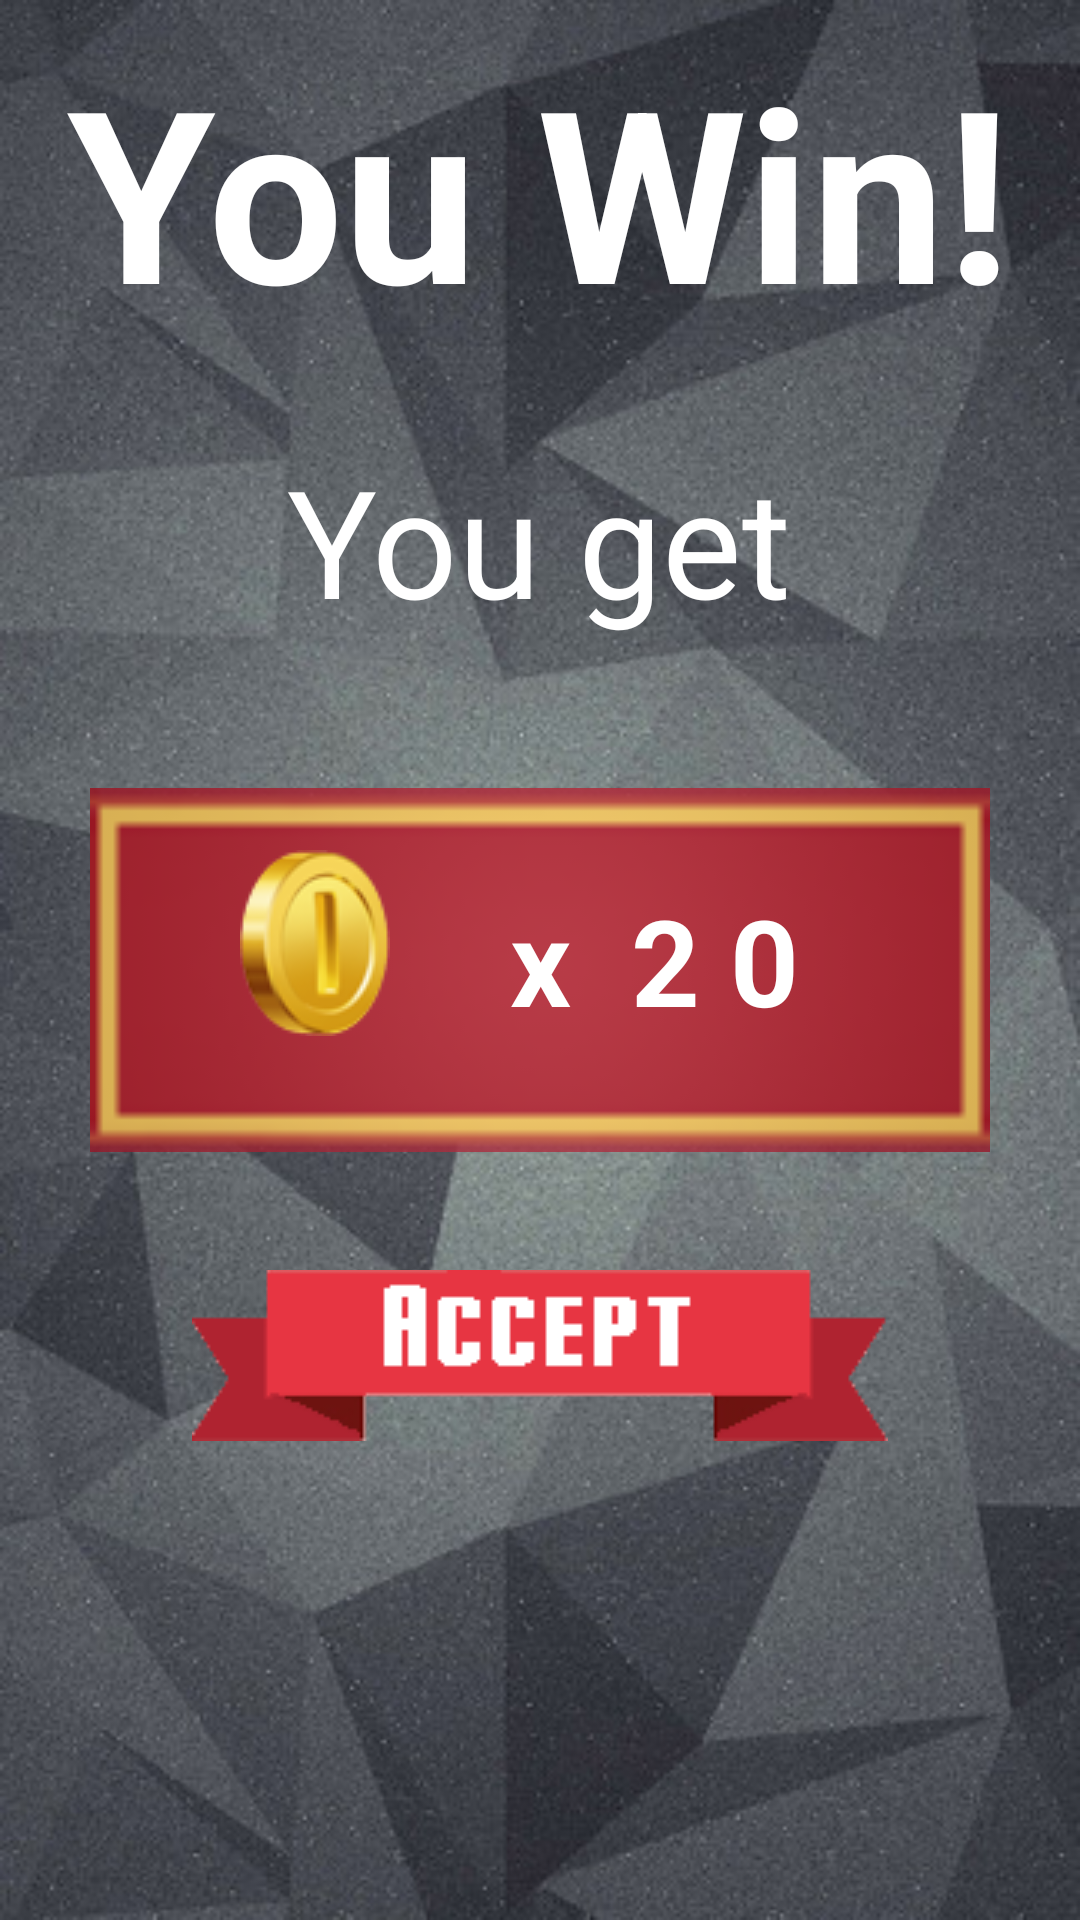

Where icons sit on this 1080×1920 app screen, as (x1, y1, x2, y2):
coin: (240, 850, 390, 1036)
